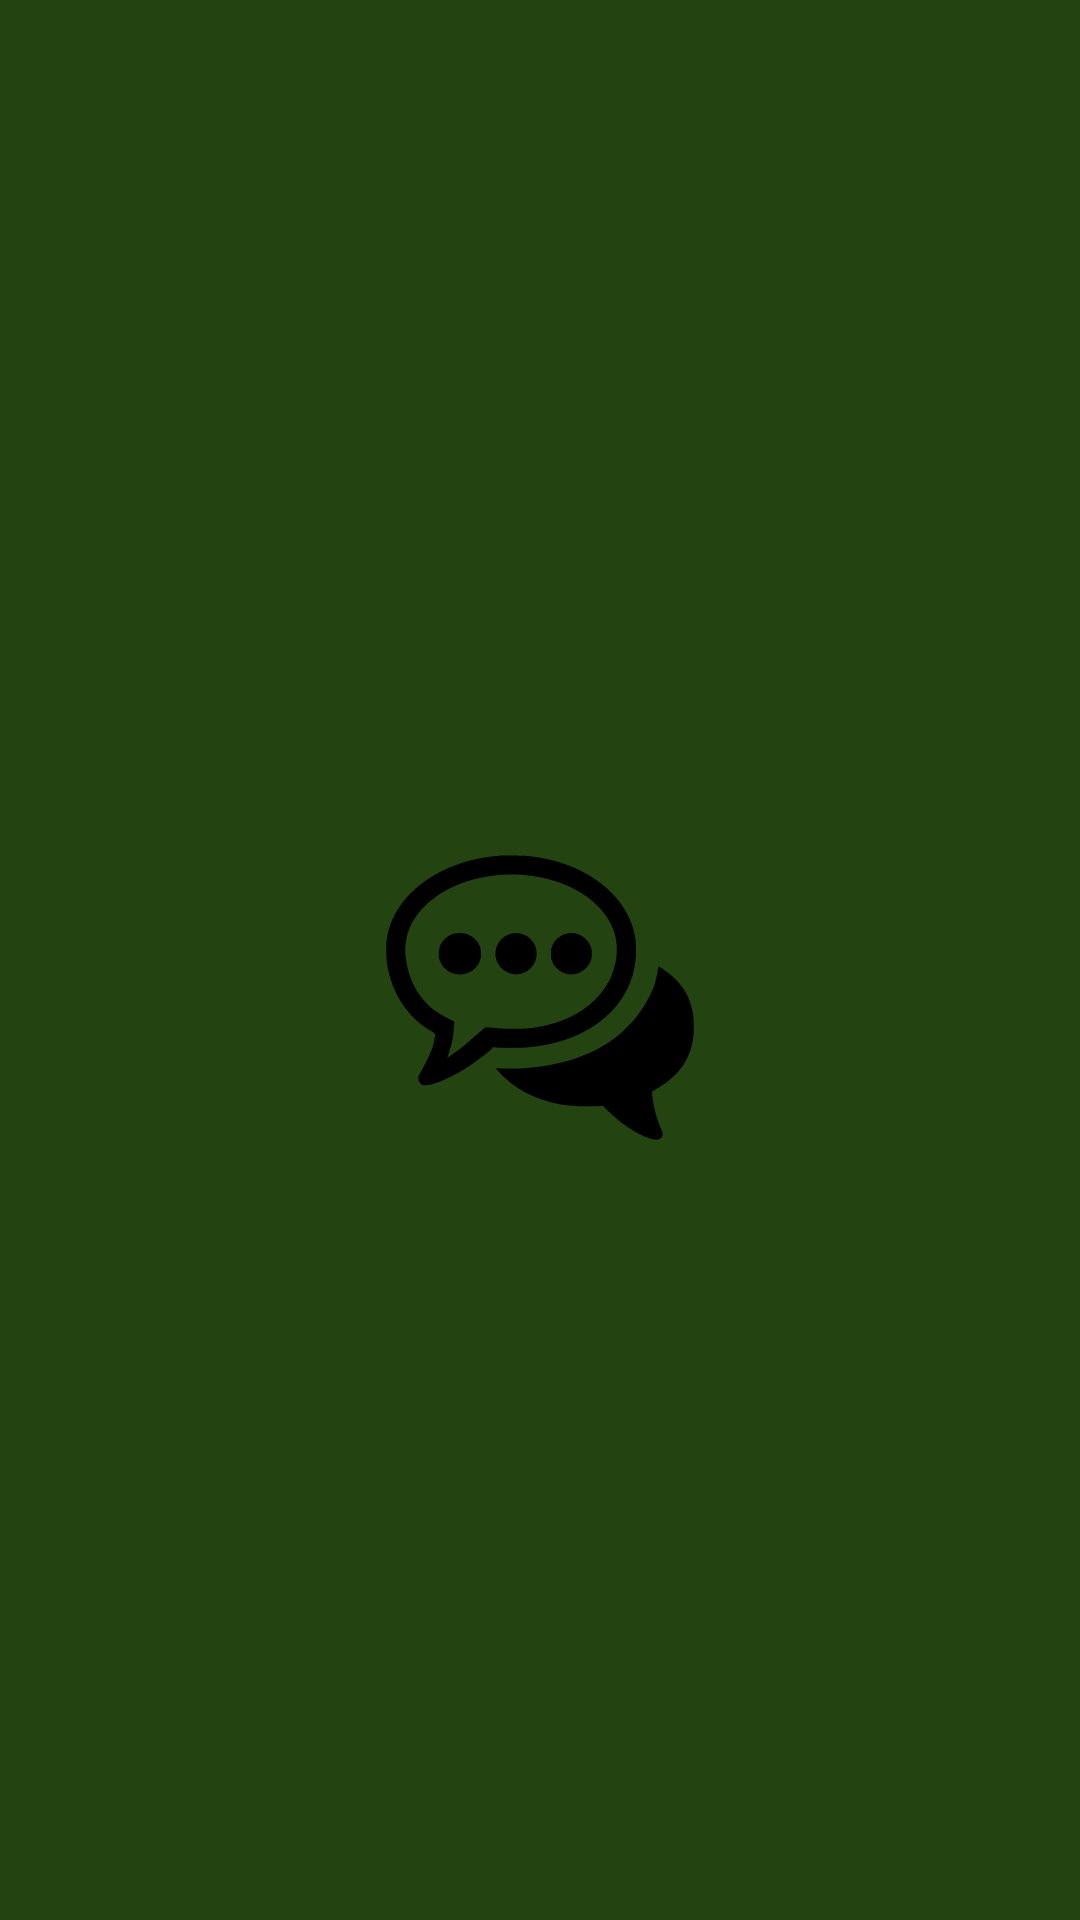

Icons on this 1080 x 1920 Android screen, each with the point to tap as (x=x, y=y):
shoutboxicon: (x=540, y=997)
